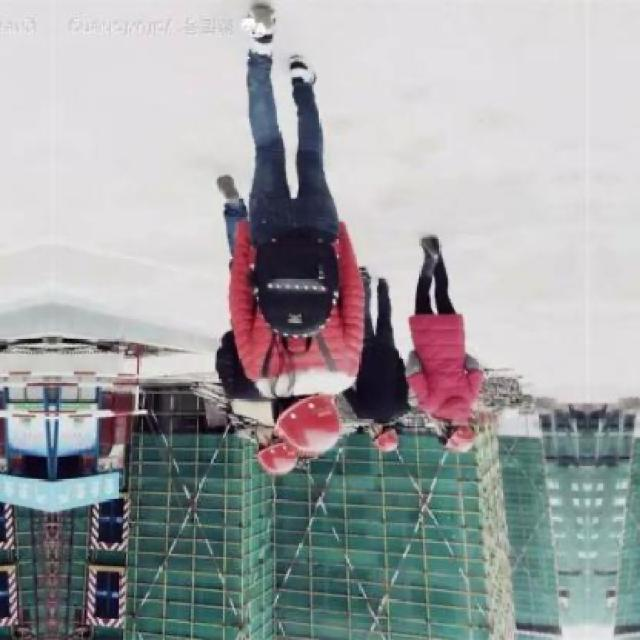con casco: (266, 372, 358, 460), (238, 426, 312, 489), (345, 412, 424, 468), (417, 416, 499, 464)
